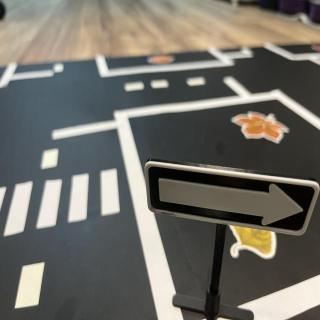road_crosswalk: (1, 164, 123, 242)
sign_oneway_right: (147, 162, 319, 240)
